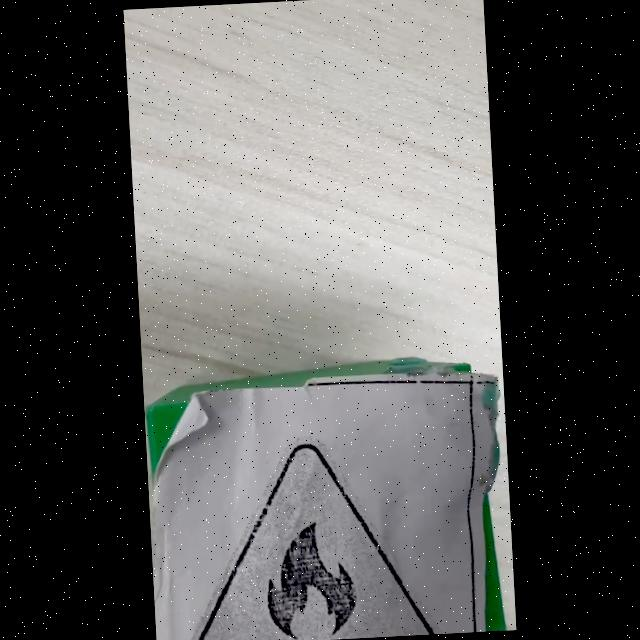Fire: (193, 443, 436, 640)
